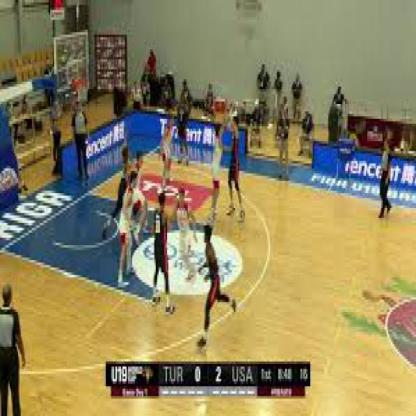rim: (75, 76, 89, 92)
